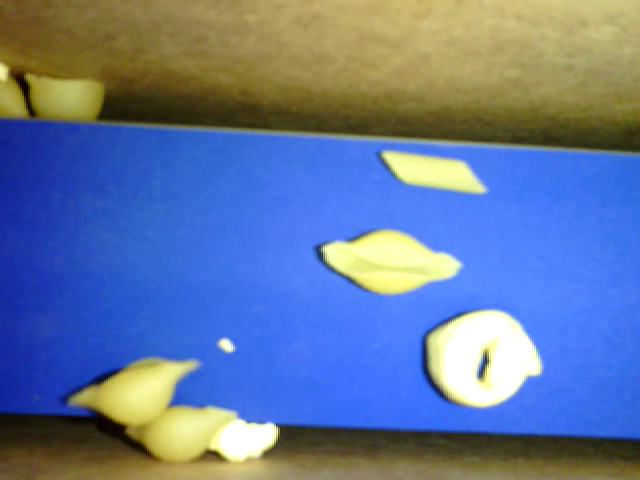penne: (378, 150, 491, 192)
shell: (66, 353, 202, 429), (319, 227, 465, 295), (123, 407, 235, 464), (25, 71, 108, 124)
tortellini: (427, 309, 541, 408)
